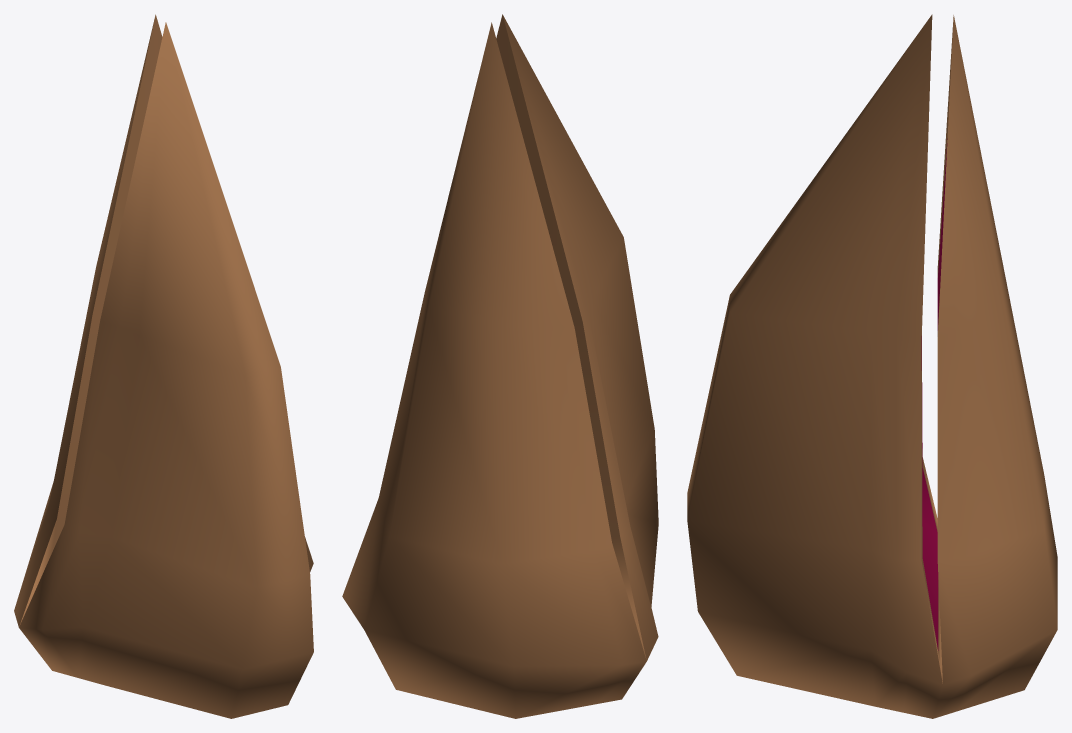
File: Peliking.fbx
3 renders of one model, left to right at view 1: azimuth 30°, elevation 25°; view 2: azimuth 150°, elevation 25°; view 3: azimuth 270°, elevation 25°, orthographic. The views are drawn at different scales.
Visible parts, largest first — view 1: Peliking - Haskipend; view 2: Peliking - Haskipend; view 3: Peliking - Haskipend.
Part boxes in pixels (left/top/right/bottom): Peliking - Haskipend: left=14, top=14, right=313, bottom=718; Peliking - Haskipend: left=342, top=14, right=658, bottom=718; Peliking - Haskipend: left=687, top=14, right=1057, bottom=718.
Bounding box in the file's own units: 56.61 × 119 × 61.48.
